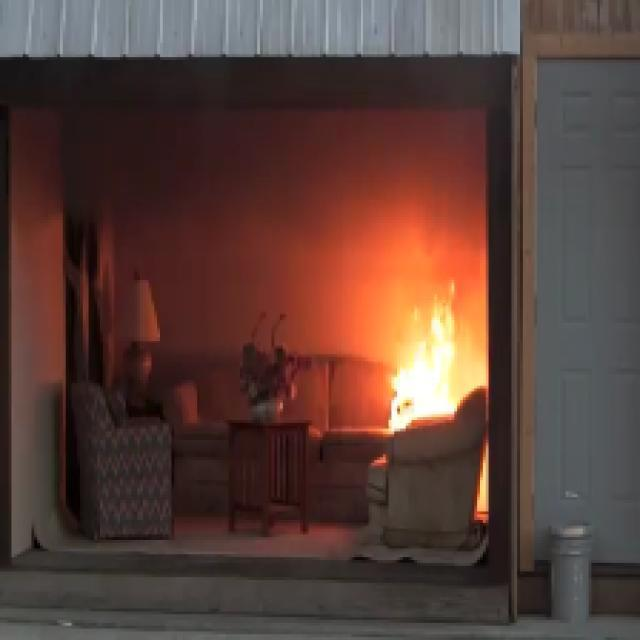Fire: (382, 302, 458, 425)
